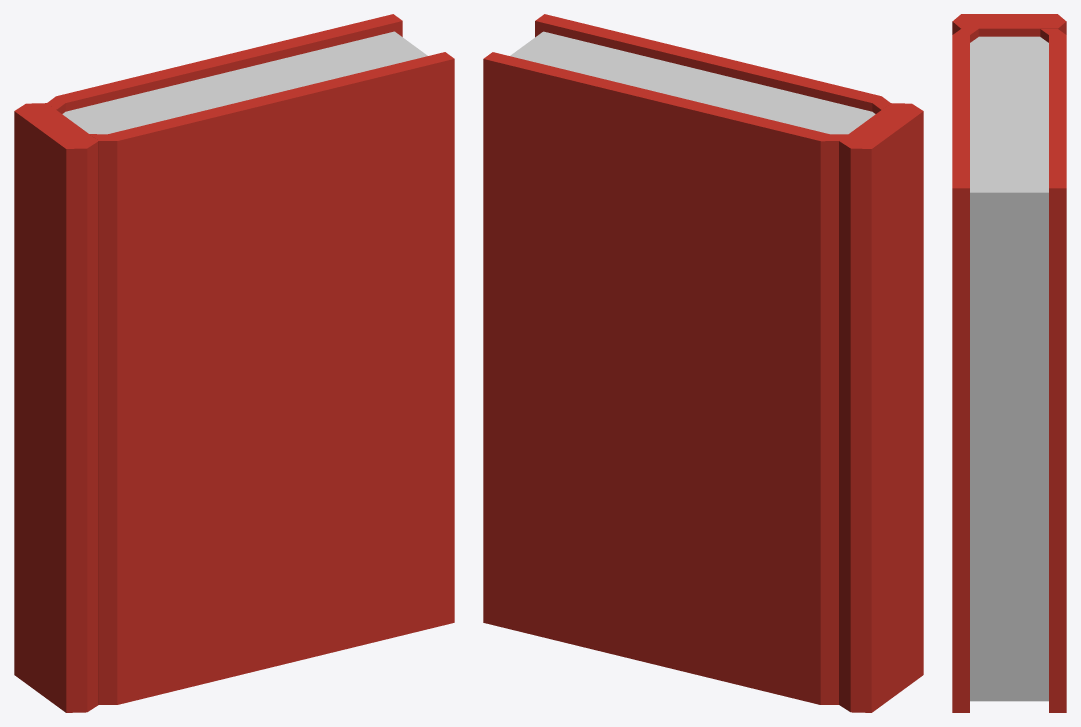
3 views of the same model, side by side, from view 1: azimuth 30°, elevation 25°; view 2: azimuth 150°, elevation 25°; view 3: azimuth 270°, elevation 25° (orthographic). The views are drawn at different scales.
Visible parts, largest first — view 1: node_MeshObject2064963264-PolyPaper21; view 2: node_MeshObject2064963264-PolyPaper21; view 3: node_MeshObject2064963264-PolyPaper21.
Boxes of the visible parts, x1,y1,x2,y2 form: node_MeshObject2064963264-PolyPaper21: [14, 14, 454, 712]; node_MeshObject2064963264-PolyPaper21: [483, 14, 923, 712]; node_MeshObject2064963264-PolyPaper21: [952, 14, 1066, 712].
Size of the model in its own units: 0.4701 by 0.66 by 0.13.
